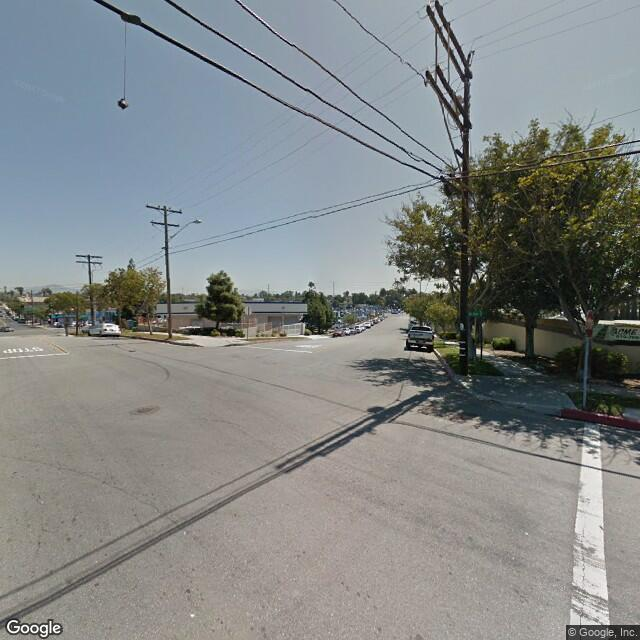litter: (103, 84, 141, 120)
